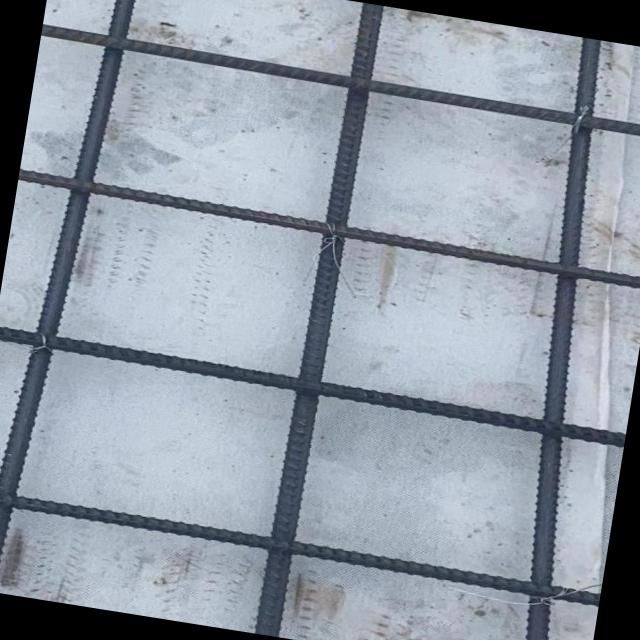ribbed bar: (480, 37, 640, 640), (0, 0, 146, 599), (250, 0, 386, 638), (0, 325, 627, 449), (18, 168, 640, 290), (0, 487, 601, 608), (42, 23, 640, 142)
